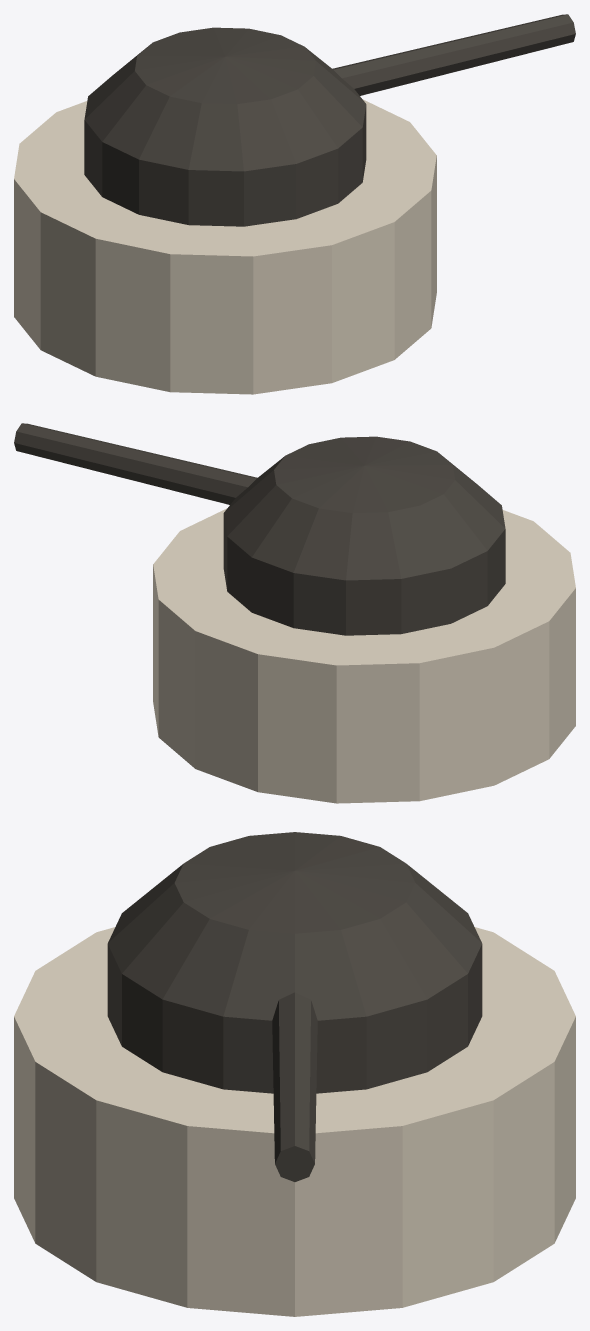
File: gun-turret.glb
3 renders of one model, top to bottom at view 1: azimuth 30°, elevation 25°; view 2: azimuth 150°, elevation 25°; view 3: azimuth 270°, elevation 25°, orthographic. The views are drawn at different scales.
Visible parts, largest first — view 1: gun-turret; view 2: gun-turret; view 3: gun-turret.
Part boxes in pixels (x1=…): gun-turret: x1=14, y1=14, x2=575, y2=394; gun-turret: x1=14, y1=423, x2=575, y2=803; gun-turret: x1=14, y1=832, x2=575, y2=1316.
Size of the model in its own units: 1.2 by 0.54 by 0.84.
